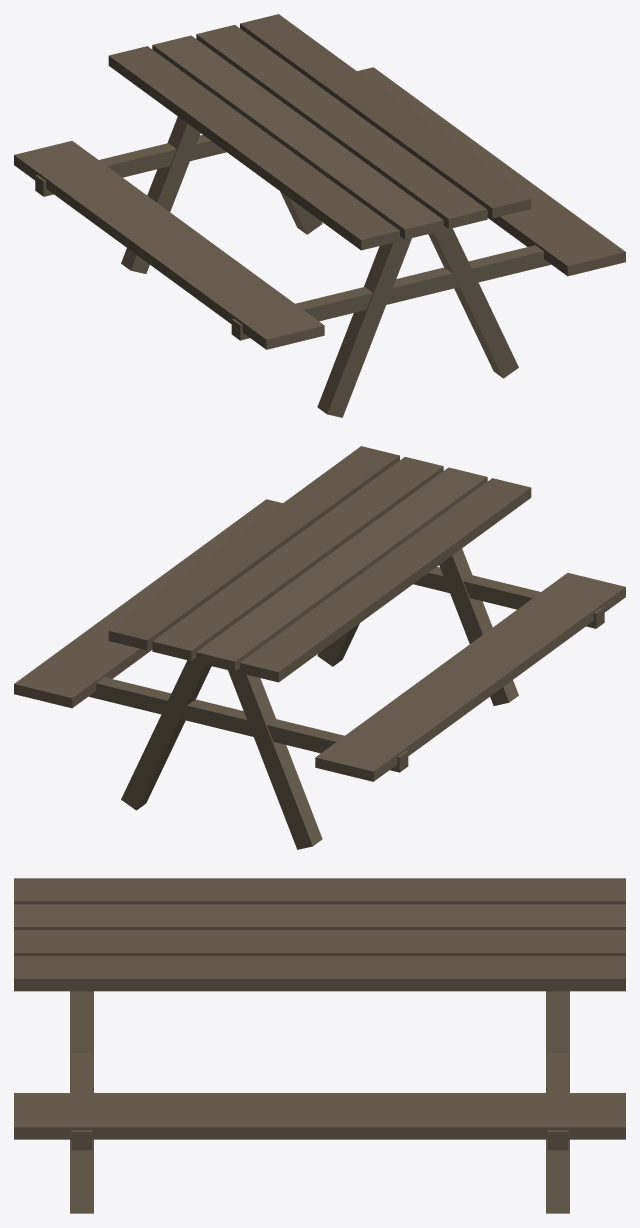
Rendered from SM_Prop_picnic_table_0.glb.
The picture shows the model from 3 angles, top to bottom: view 1: azimuth 30°, elevation 25°; view 2: azimuth 150°, elevation 25°; view 3: azimuth 270°, elevation 25°; orthographic projection. The views are drawn at different scales.
Visible parts, largest first — view 1: SM_Prop_picnic_table_0; view 2: SM_Prop_picnic_table_0; view 3: SM_Prop_picnic_table_0.
Part boxes in pixels (x1=…): SM_Prop_picnic_table_0: x1=14, y1=14, x2=625, y2=417; SM_Prop_picnic_table_0: x1=14, y1=446, x2=625, y2=849; SM_Prop_picnic_table_0: x1=14, y1=878, x2=625, y2=1213.
Size of the model in its own units: 1.5 by 0.7695 by 1.8.
